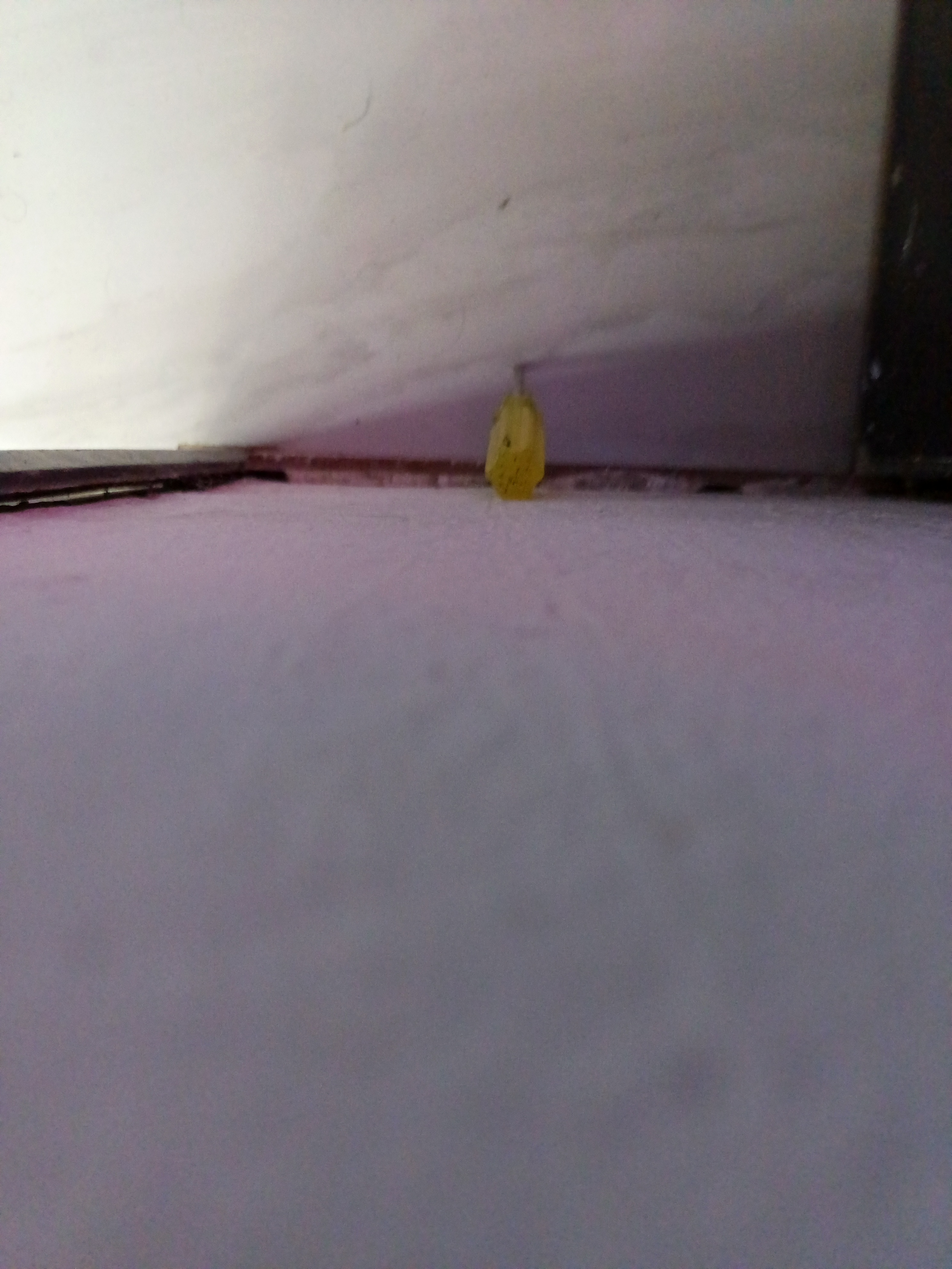Destornillador: (486, 361, 545, 489)
